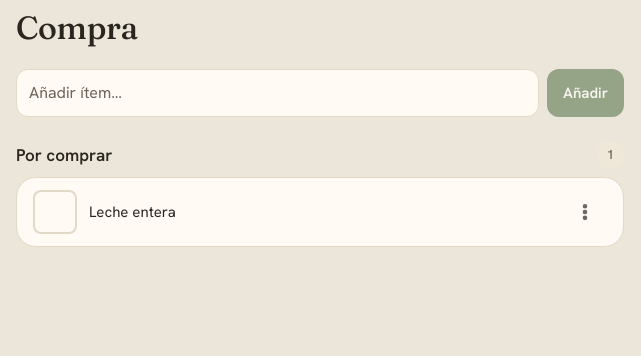
Test case: CompraPage — menú de acciones de tres puntos › abre el desplegable y dispara Editar desde el menú
The image size is (641, 356).
Check: the text "Leche entera" is shown, box [89,202,176,222]
Click the button named "Menú de acciones de Leche entera": (585, 212) [563,190,607,234]
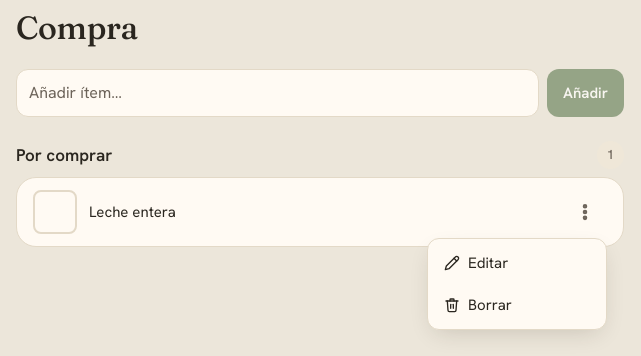
Click the menu item with aria-label "Editar Leche entera": (517, 263) [432,243,602,283]
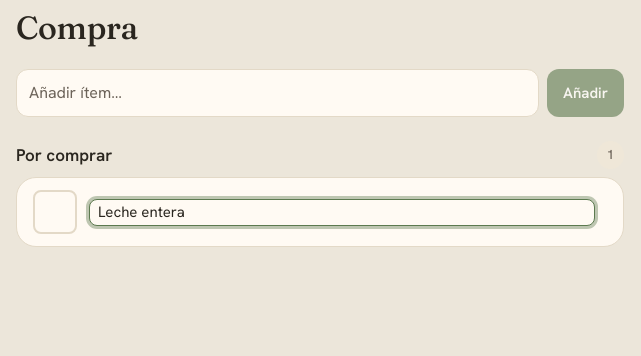
Replace the text in the field named "Editar Leche entera" with "Leche desnatada": (342, 212) [89,199,595,226]
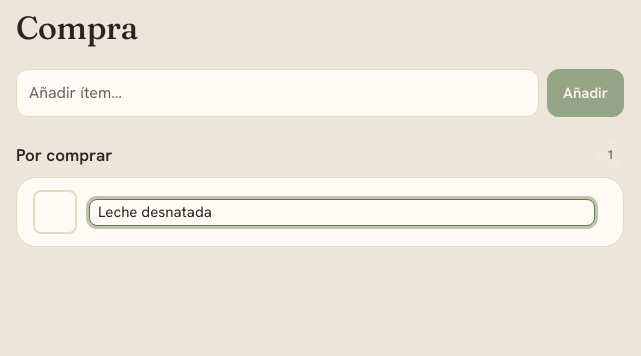
Press Enter in the field named "Editar Leche entera", box [89,199,595,226]
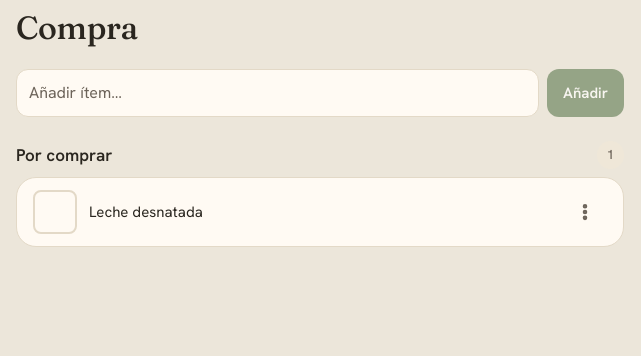
Check: the text "Leche desnatada" is shown, box [89,202,203,222]
